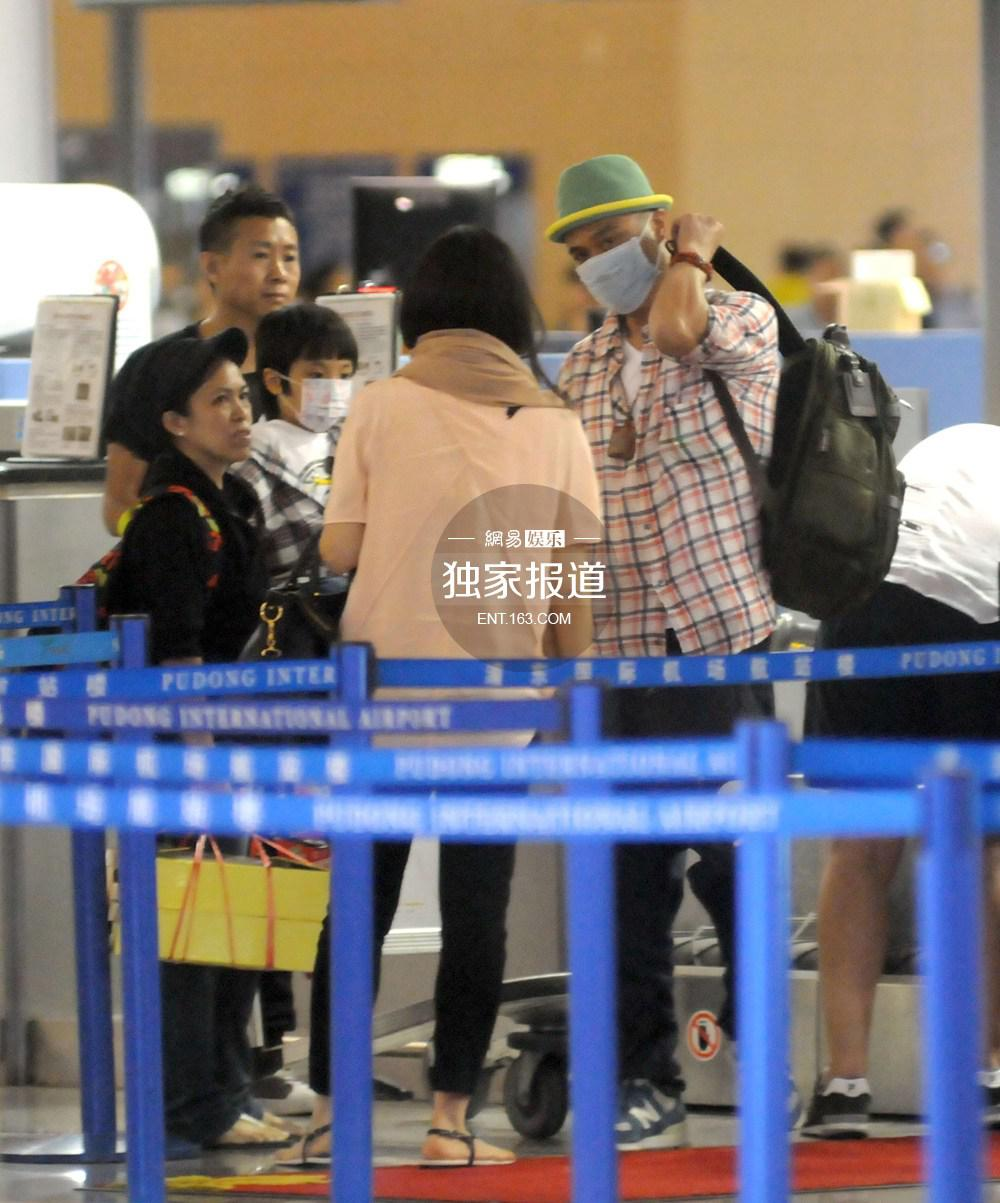NONE: (229, 231, 307, 309), (189, 384, 257, 459)
OK: (570, 215, 657, 312), (288, 350, 359, 439)
